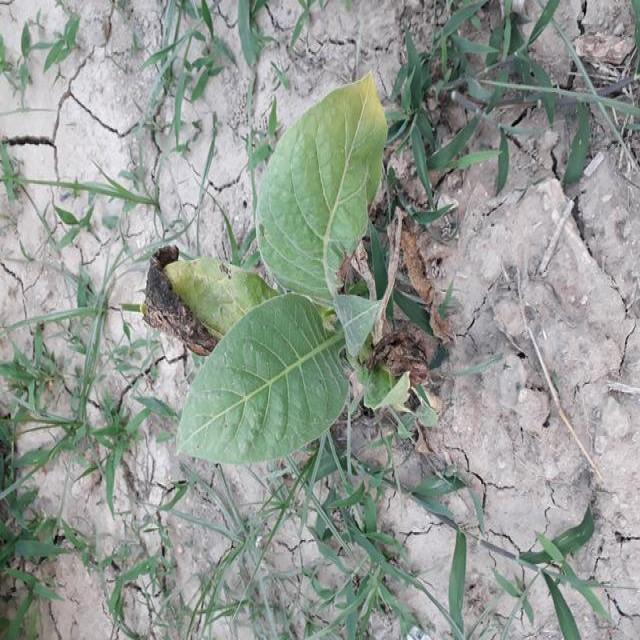crop: (139, 88, 408, 471)
